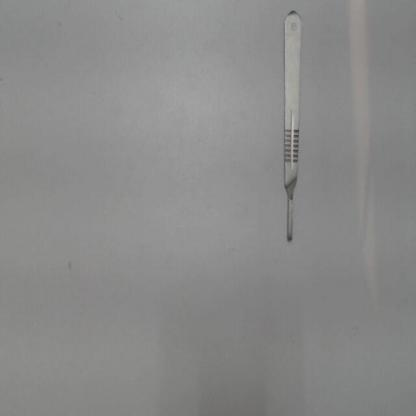No.4 BP Handle: (272, 5, 308, 249)
